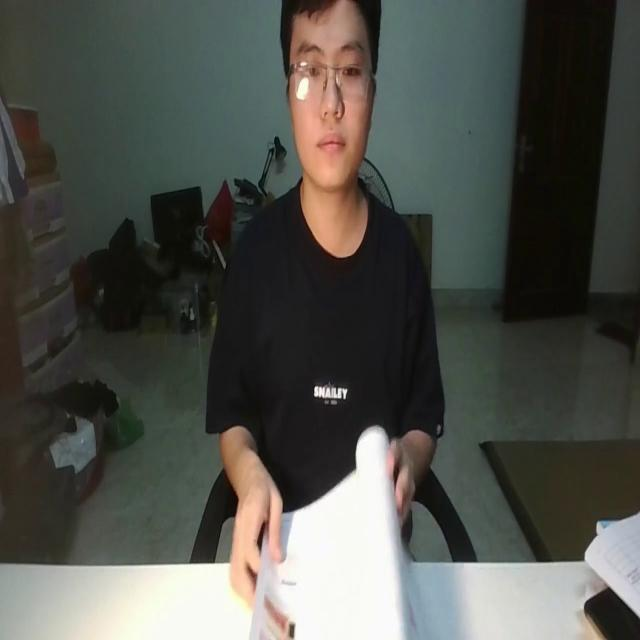book: (253, 424, 407, 640)
student: (201, 0, 440, 604)
